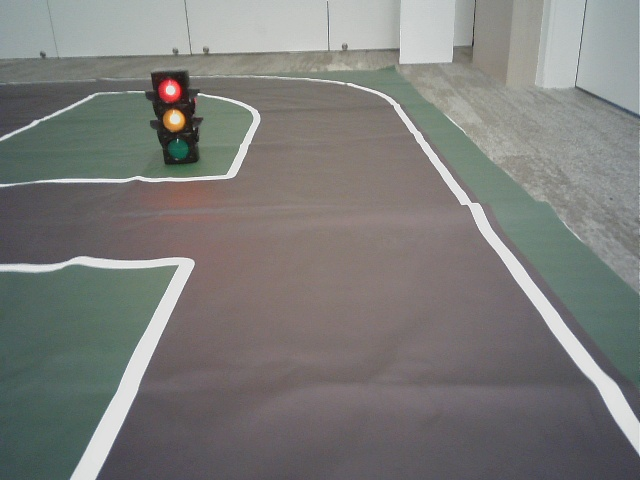red: (154, 77, 192, 163)
